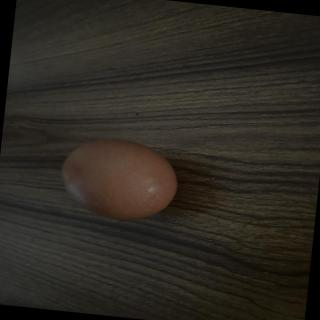Telur: (56, 133, 188, 230)
